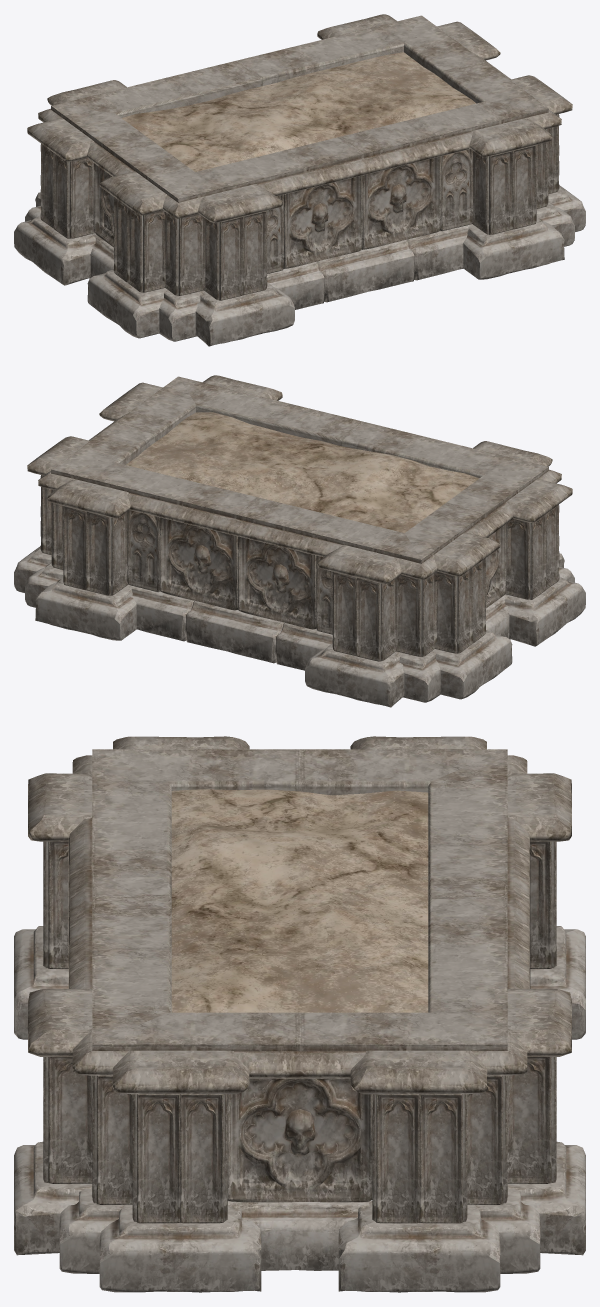
The picture shows the model from 3 angles, top to bottom: view 1: azimuth 30°, elevation 25°; view 2: azimuth 150°, elevation 25°; view 3: azimuth 270°, elevation 25°; orthographic projection. The views are drawn at different scales.
Parts seen in each view (by area): view 1: SM_WaxBath01_LOD0; view 2: SM_WaxBath01_LOD0; view 3: SM_WaxBath01_LOD0.
Boxes of the visible parts, x1,y1,x2,y2 form: SM_WaxBath01_LOD0: (14, 14, 585, 346); SM_WaxBath01_LOD0: (14, 375, 585, 707); SM_WaxBath01_LOD0: (14, 736, 585, 1292).
Size of the model in its own units: 5 by 1.47 by 3.37.
3 materials, 3 textured.
